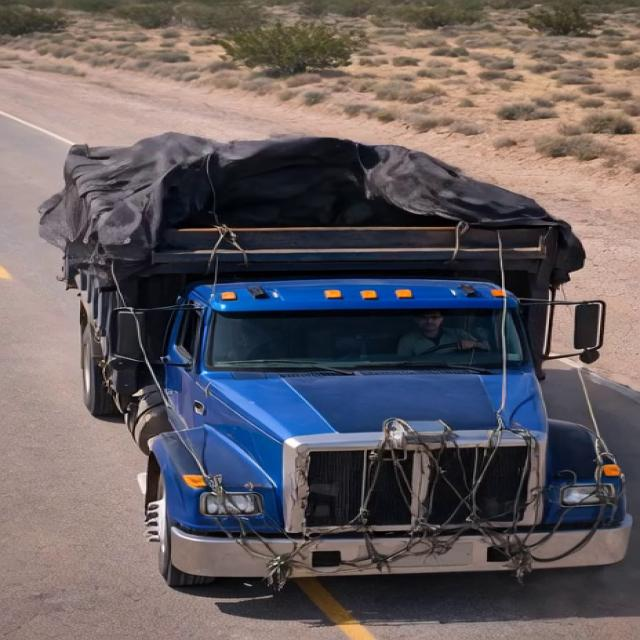trailer: (38, 124, 607, 271)
truck: (19, 69, 634, 610)
